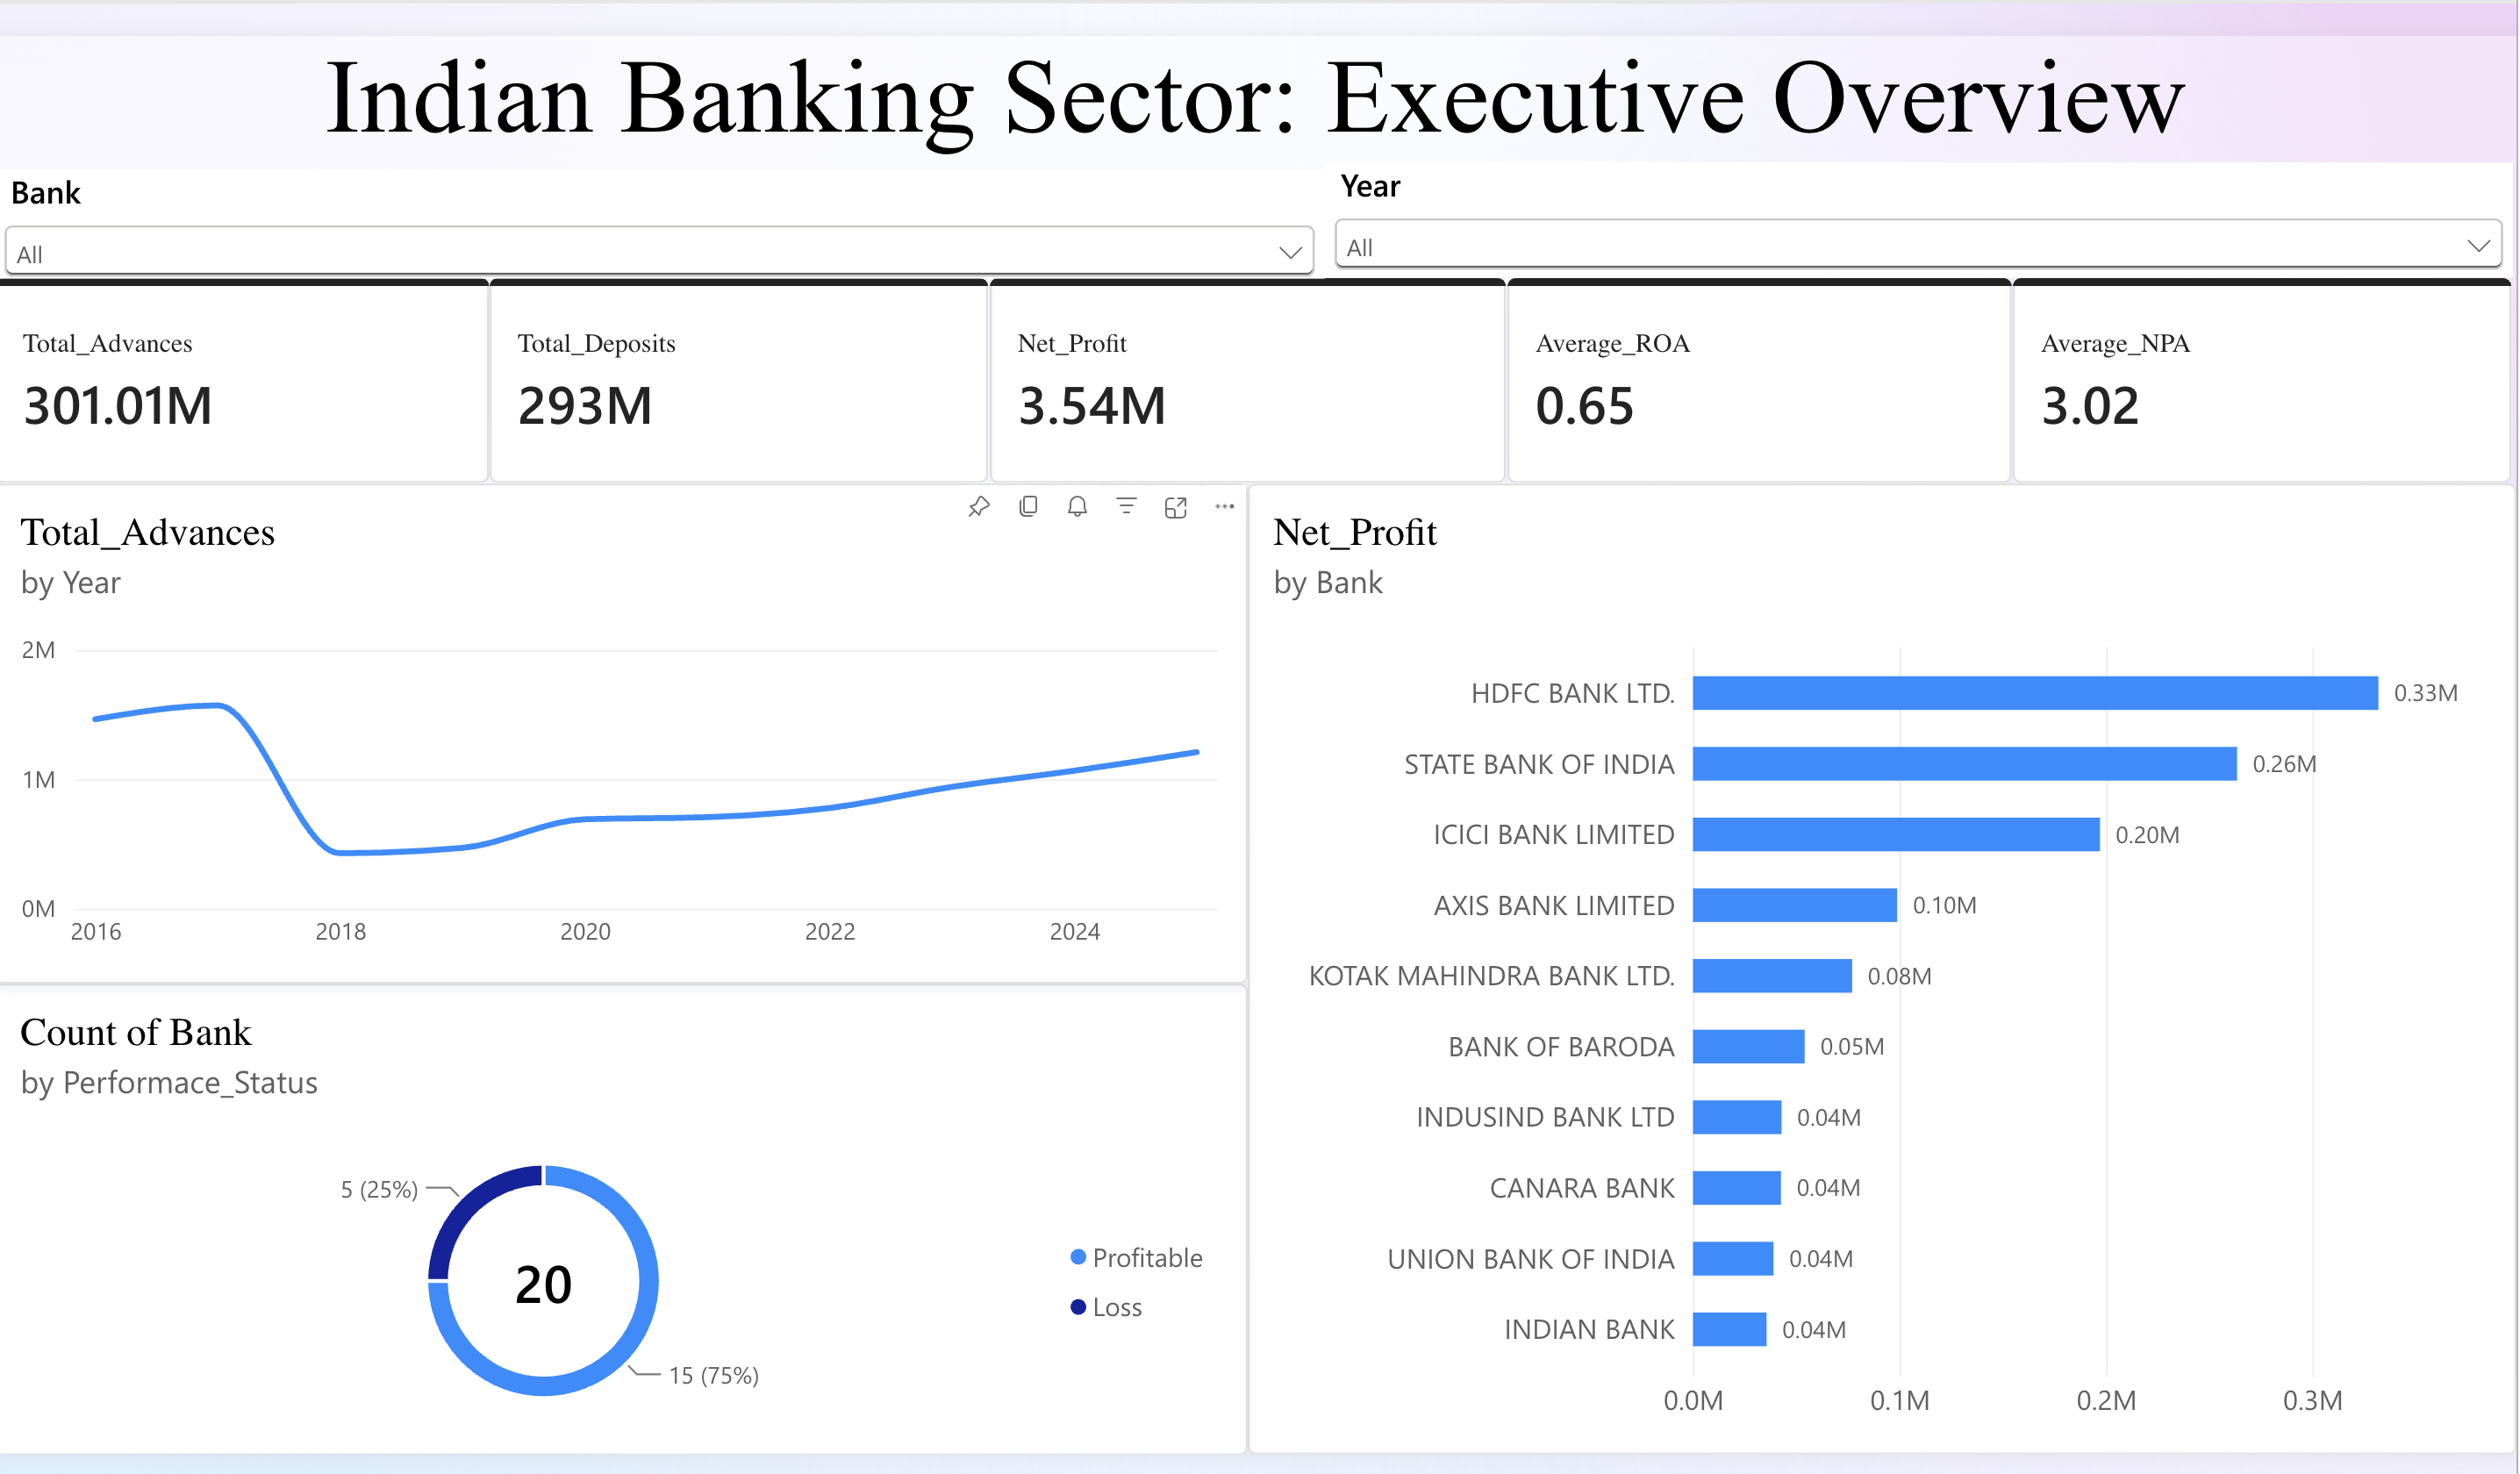

The dashboard page shown, as its layout file describes it:
{"tool":"powerbi","page":{"name":"Page 1","canvas":[1280,720],"ordinal":0},"visuals":[{"type":"cardVisual","fields":{"Data":["ASSETS.Total_Advances"]},"box":[0,123,251.6,104.2],"z":0},{"type":"cardVisual","fields":{"Data":["EXPENSES.Net_Profit"]},"box":[505.4,123,262.6,104.2],"z":1000},{"type":"cardVisual","fields":{"Data":["Ratio.Average_ROA"]},"box":[768,123,256,104.2],"z":2000},{"type":"cardVisual","fields":{"Data":["Ratio.Average_NPA"]},"box":[1024,123,253.8,104.2],"z":3000},{"type":"clusteredBarChart","fields":{"Category":["EXPENSES.Bank"],"Y":["EXPENSES.Net_Profit"]},"box":[636.1,227.2,643.9,493.2],"z":5000},{"type":"donutChart","fields":{"Category":["Ratio.Performace_Status"],"Y":["Count(Ratio.Bank)"]},"box":[0,481,636.1,239.4],"z":6000},{"type":"cardVisual","fields":{"Data":["LIABILITIES.Total_Deposits"]},"box":[251.6,123,253.8,104.2],"z":8001},{"type":"lineChart","fields":{"Category":["YearTable.Year"],"Y":["ASSETS.Total_Advances"]},"box":[0,227.2,636.1,253.8],"z":8002},{"type":"slicer","fields":{"Values":["YearTable.Year"]},"box":[674.9,64.3,602.9,58.7],"z":8003},{"type":"slicer","fields":{"Values":["BankTable.Bank"]},"box":[0,67.6,674.9,55.4],"z":8004},{"type":"textbox","box":[170.7,0,1109.3,64.3],"z":8005}]}

Visuals, with their boxes on the page's 1280x720 design canvas (x1, y1, x2, y2). These are canvas units, not pixel positions in the 2520x1474 screenshot, which may show the page scaled, cropped or inside an application window:
cardVisual - ASSETS.Total_Advances: bbox=[0, 123, 252, 227]
cardVisual - EXPENSES.Net_Profit: bbox=[505, 123, 768, 227]
cardVisual - Ratio.Average_ROA: bbox=[768, 123, 1024, 227]
cardVisual - Ratio.Average_NPA: bbox=[1024, 123, 1278, 227]
clusteredBarChart - EXPENSES.Bank x EXPENSES.Net_Profit: bbox=[636, 227, 1280, 720]
donutChart - Ratio.Performace_Status x Count(Ratio.Bank): bbox=[0, 481, 636, 720]
cardVisual - LIABILITIES.Total_Deposits: bbox=[252, 123, 505, 227]
lineChart - YearTable.Year x ASSETS.Total_Advances: bbox=[0, 227, 636, 481]
slicer - YearTable.Year: bbox=[675, 64, 1278, 123]
slicer - BankTable.Bank: bbox=[0, 68, 675, 123]
textbox: bbox=[171, 0, 1280, 64]
